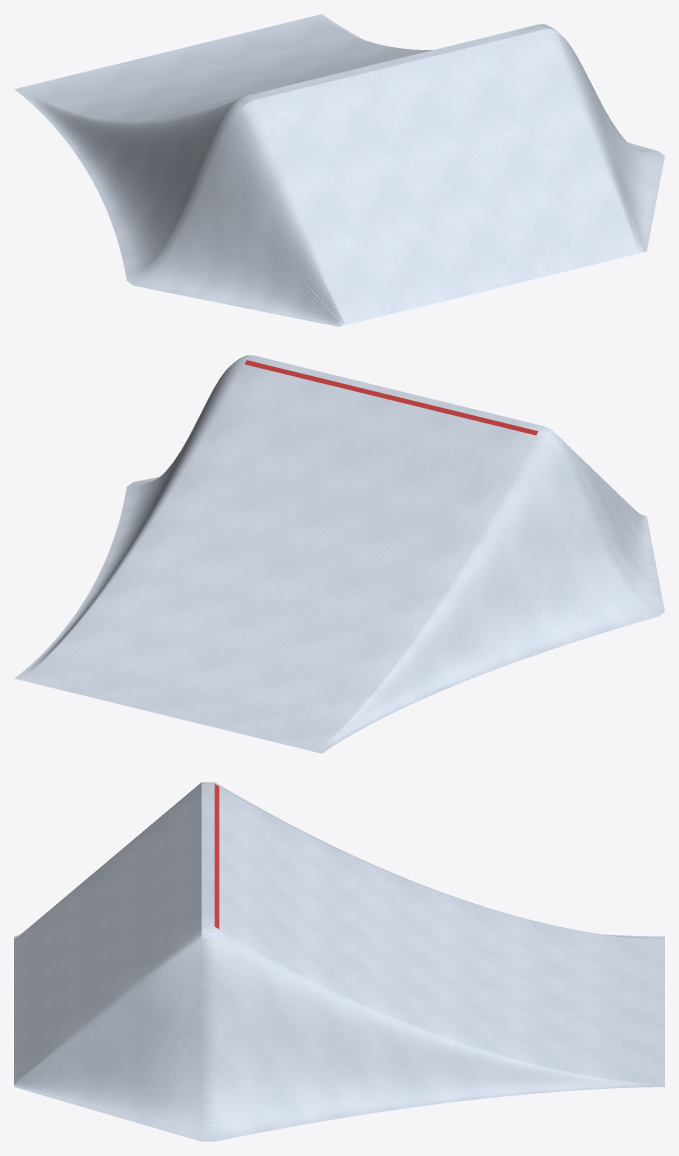
Rendered from SM_BigAir.glb.
3 renders of one model, top to bottom at view 1: azimuth 30°, elevation 25°; view 2: azimuth 150°, elevation 25°; view 3: azimuth 270°, elevation 25°, orthographic.
Parts seen in each view (by area): view 1: SM_BigAir; view 2: SM_BigAir, Lip; view 3: SM_BigAir, Lip.
Boxes of the visible parts, box(x1,y1,x2,y2) form: SM_BigAir: box(14, 14, 664, 326); SM_BigAir: box(14, 355, 664, 753); Lip: box(245, 360, 538, 435); SM_BigAir: box(14, 782, 664, 1141); Lip: box(214, 784, 219, 928).
Size of the model in its own units: 16.4 by 4.6 by 17.35.
Materials: 2 (1 with a texture image).
